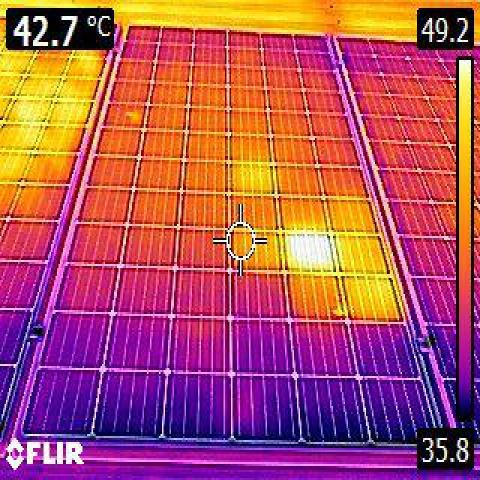fault: (344, 273, 394, 320), (288, 232, 336, 270), (229, 157, 269, 191)
